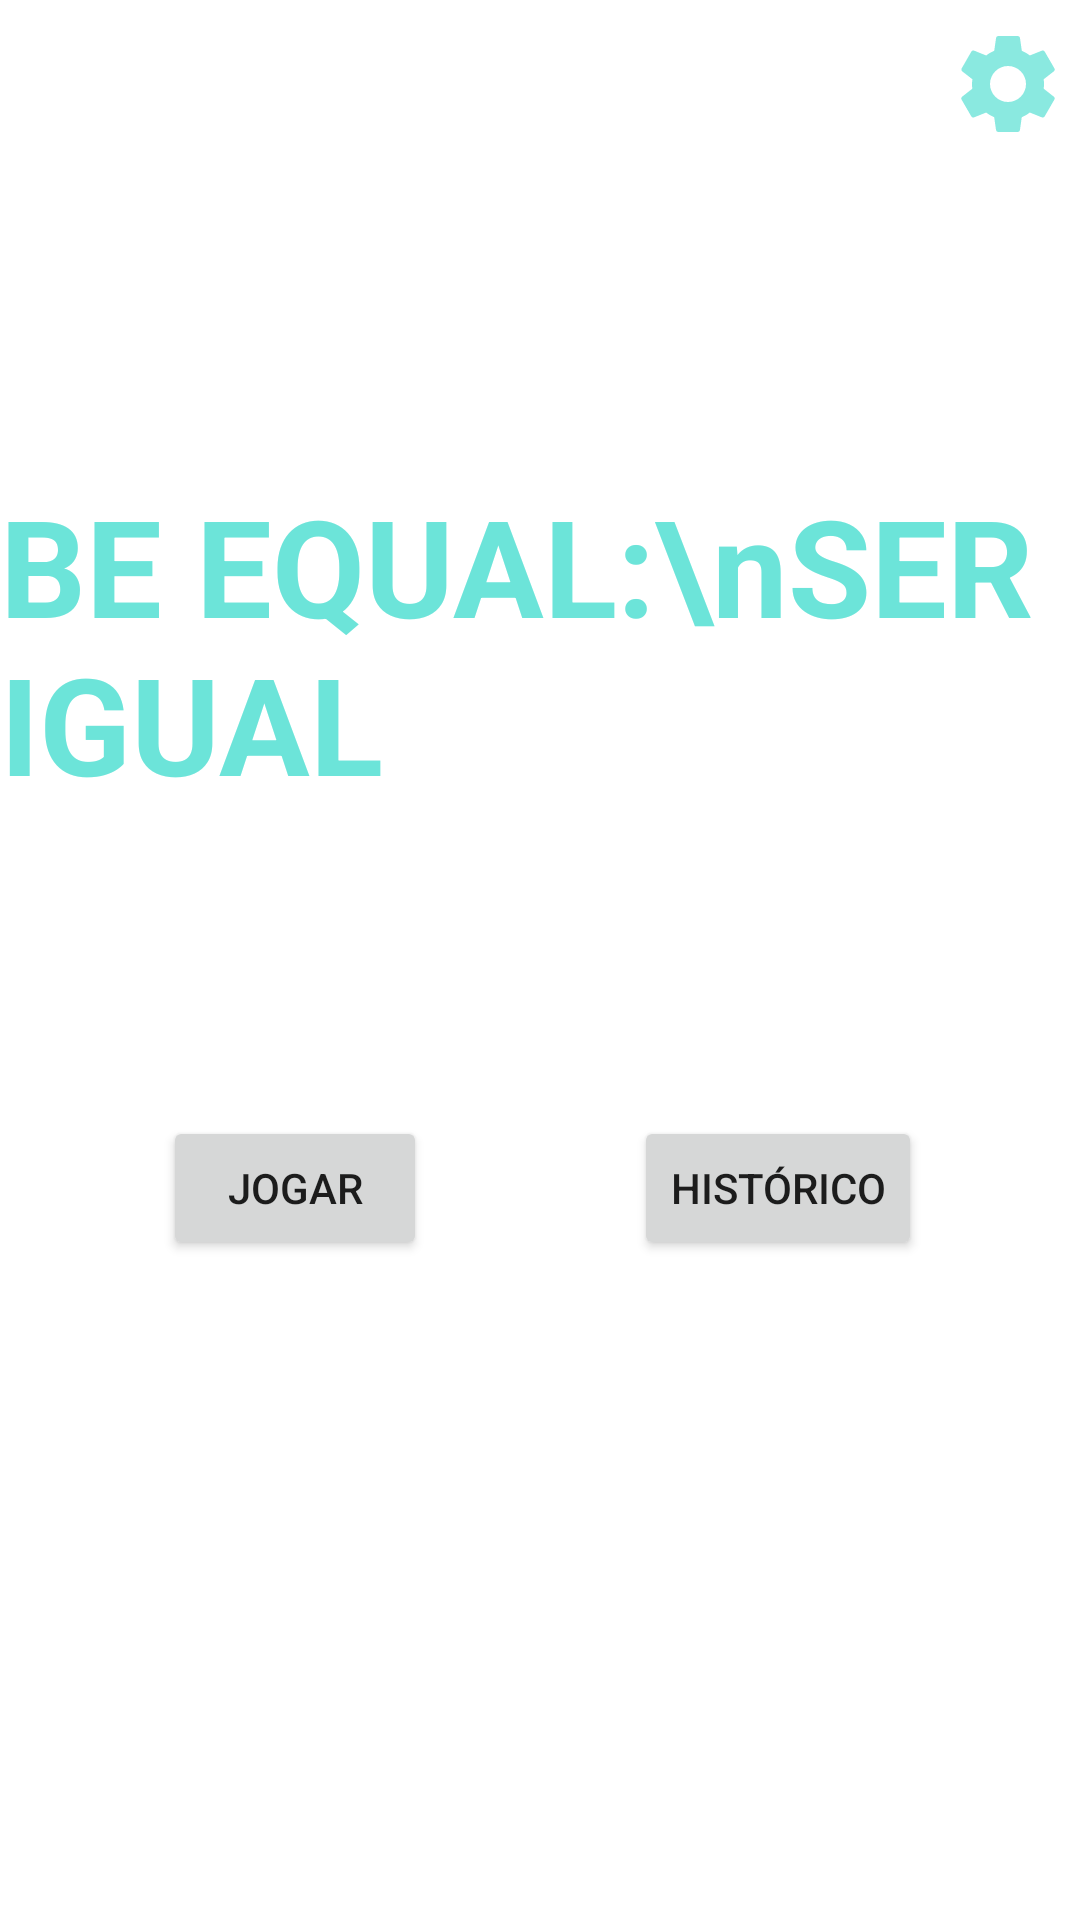

Locate icon controls on the screen. Image size 1080x1920, boxes as [x1=x1, y1=y1, x2=x2, y2=y2].
settings: [x1=961, y1=36, x2=1055, y2=132]
